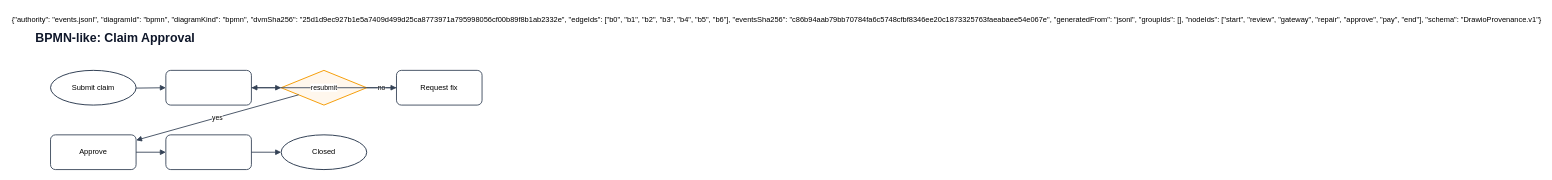
This 1552x180 diagram has some shape labels left out. The shapes that lost their labels are listed below. From the top down, each one's centre as x and y in pixels, then its label:
the point at 208,87: Review
the point at 208,152: Pay
